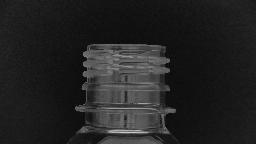No Cap: (71, 40, 181, 119)
